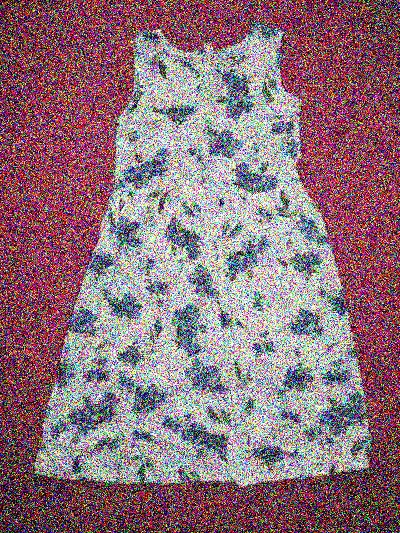Dress: (9, 20, 379, 493)
